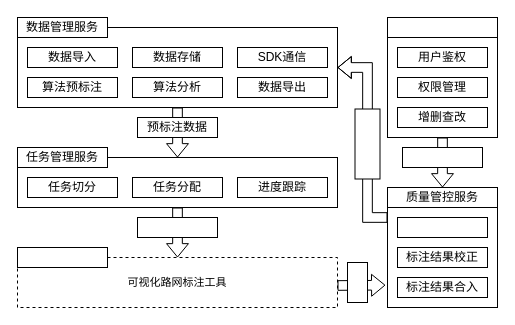
This 515x325 diagram has some shape labels left out. Here are the shapes that lost their labels. From the top down, the centre of each, then its label:
pixel 442 27: 用户管理服务
pixel 367 143: 标注数据
pixel 442 157: 管理员用户
pixel 177 227: 任务下发
pixel 442 227: 任务质量筛查
pixel 62 257: 数据标注服务
pixel 357 282: 结果
